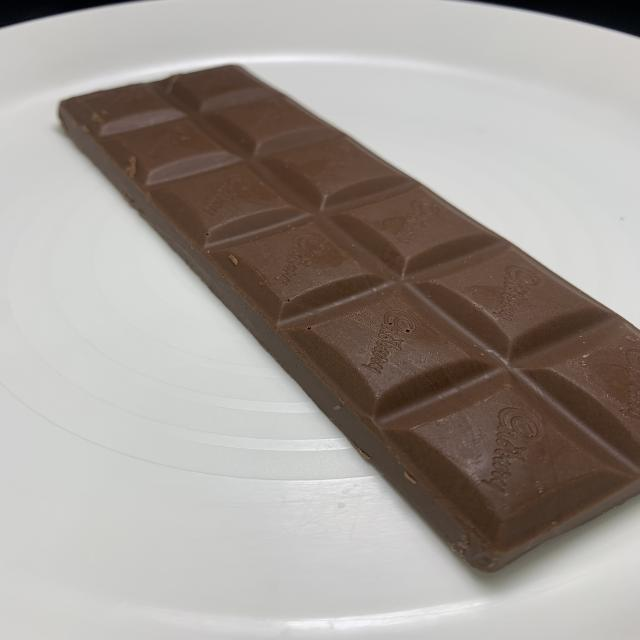Chocolate: (61, 62, 640, 576)
